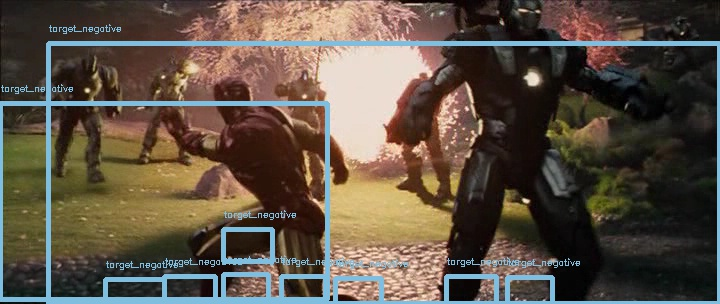person: (212, 75, 245, 118), (211, 75, 244, 118), (213, 75, 246, 118), (212, 74, 245, 117), (212, 76, 245, 119)
target_negative: (244, 273, 700, 304), (427, 82, 498, 225), (593, 111, 677, 224), (386, 256, 557, 290), (646, 74, 716, 110), (549, 52, 550, 167)
